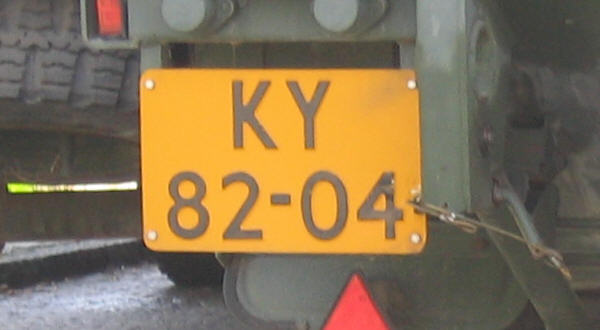license_plate: (138, 67, 427, 255)
